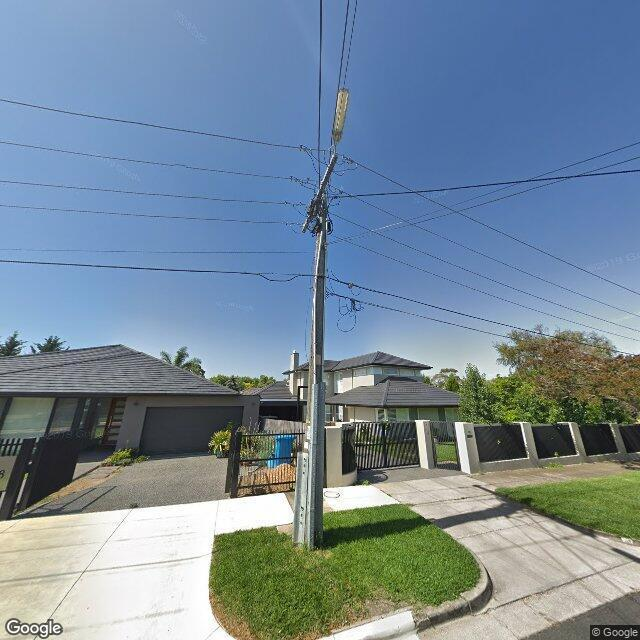crossarm: (302, 154, 338, 232)
streetlight: (332, 89, 349, 154)
timber-pole: (302, 192, 327, 551)
